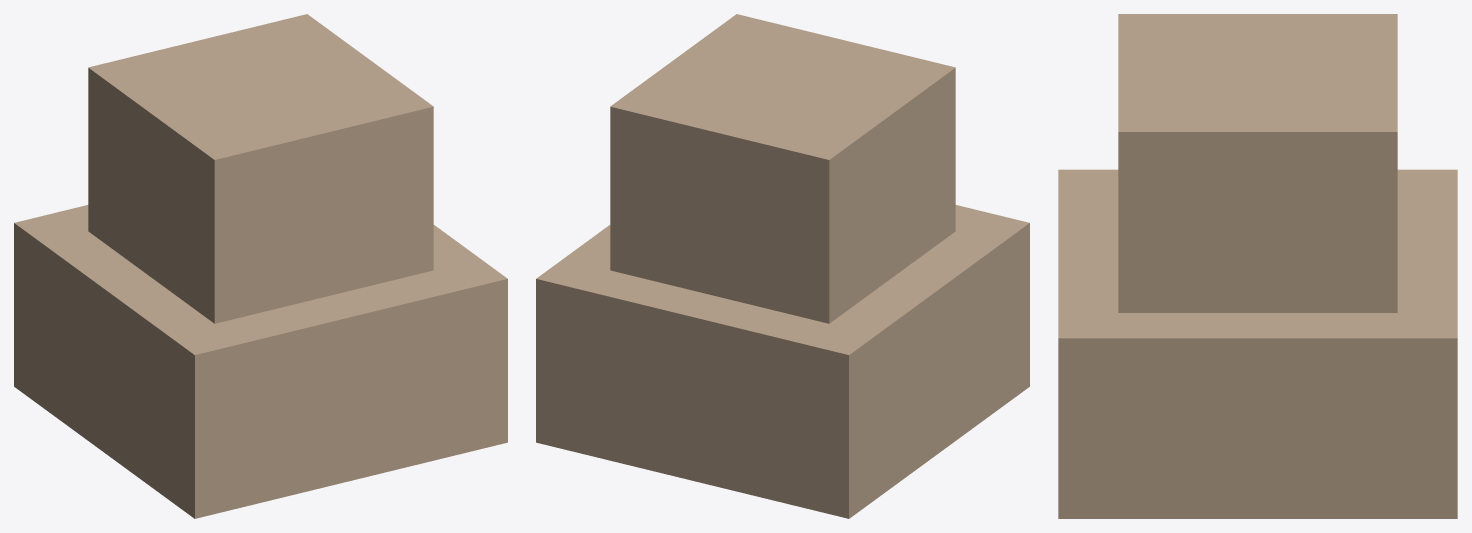
File: berm.glb
The picture shows the model from 3 angles, left to right: view 1: azimuth 30°, elevation 25°; view 2: azimuth 150°, elevation 25°; view 3: azimuth 270°, elevation 25°; orthographic projection. The views are drawn at different scales.
Visible parts, largest first — view 1: berm; view 2: berm; view 3: berm.
Boxes of the visible parts, left/top/right/bottom form: berm: left=14, top=14, right=507, bottom=518; berm: left=536, top=14, right=1029, bottom=518; berm: left=1058, top=14, right=1457, bottom=518.
Size of the model in its own units: 1 by 1 by 1.
